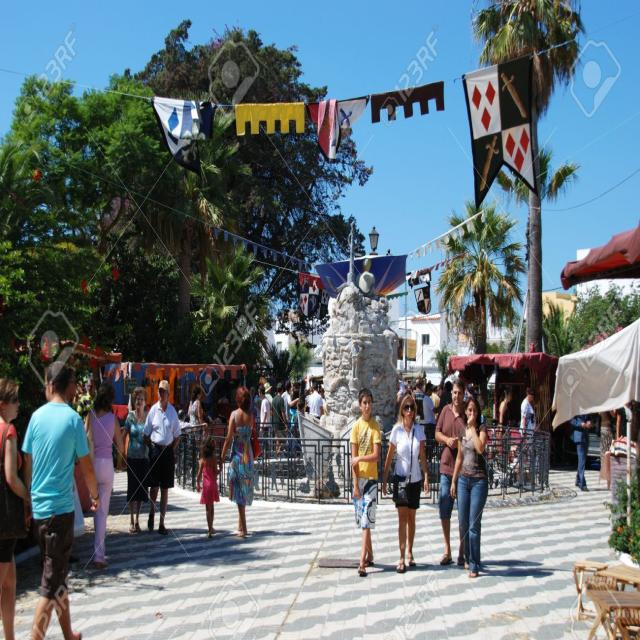body: (19, 356, 101, 639), (0, 375, 33, 639), (381, 392, 428, 576), (448, 396, 494, 580), (82, 381, 126, 572), (141, 374, 182, 537), (433, 378, 468, 568), (349, 386, 383, 577), (218, 384, 258, 542), (117, 383, 153, 537), (194, 433, 223, 541), (569, 413, 592, 492), (518, 384, 537, 474), (187, 384, 204, 481), (597, 408, 617, 488), (422, 380, 441, 464), (272, 381, 288, 460), (497, 388, 512, 470), (258, 383, 272, 466), (72, 374, 98, 413), (281, 380, 300, 432), (356, 255, 378, 297), (208, 391, 233, 426), (292, 398, 306, 460), (616, 396, 634, 443), (430, 379, 454, 413), (308, 381, 325, 420), (396, 371, 414, 404), (347, 337, 360, 382), (413, 377, 426, 419), (289, 380, 300, 428), (298, 380, 314, 412), (250, 385, 261, 428), (463, 378, 478, 400), (263, 381, 273, 405), (318, 384, 325, 397)
